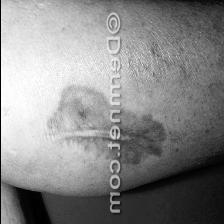Unclassified: (50, 84, 110, 164), (123, 100, 168, 162)
